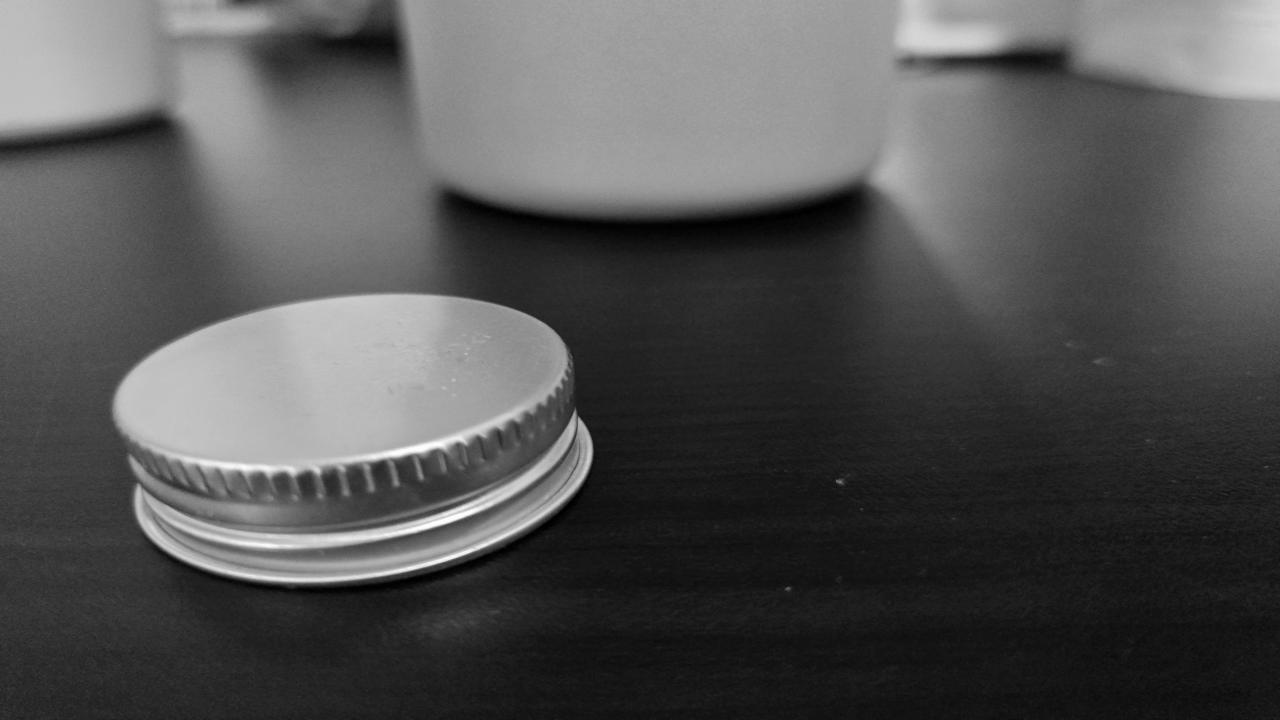bottle_cap: (112, 296, 573, 560)
